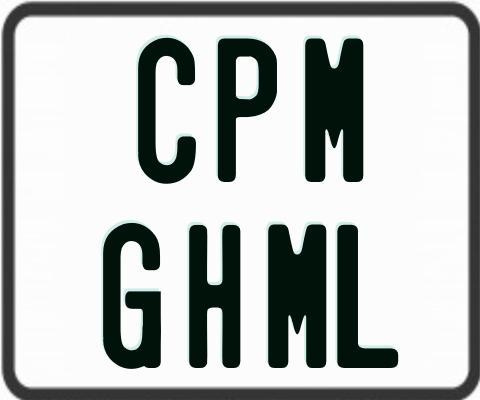C: (137, 36, 199, 187)
G: (101, 223, 159, 373)
H: (189, 225, 240, 369)
L: (337, 223, 401, 366)
M: (266, 221, 327, 366), (305, 35, 363, 184)
P: (215, 37, 276, 187)
